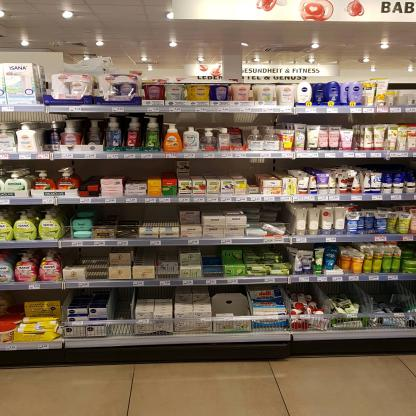Void: (76, 160, 174, 180), (193, 159, 290, 177), (100, 204, 179, 226), (187, 113, 274, 128), (374, 282, 408, 311), (216, 288, 245, 316), (134, 250, 179, 266), (112, 291, 132, 326), (88, 250, 106, 280), (57, 249, 85, 268), (206, 250, 220, 268)
